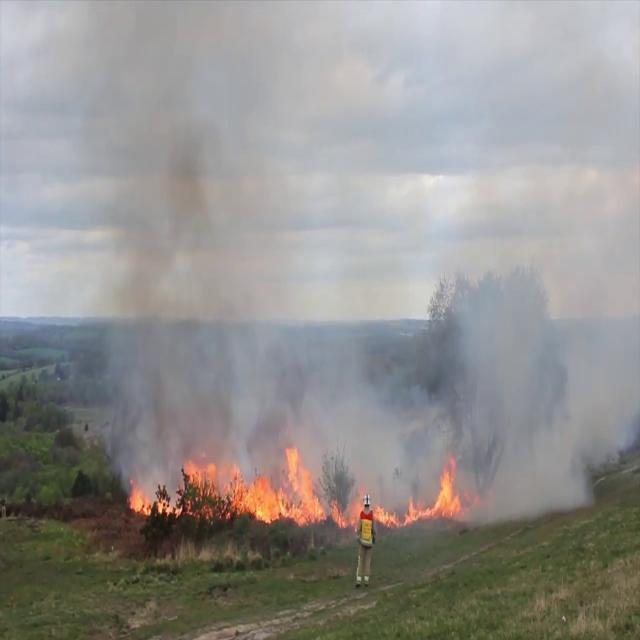Fire: (125, 442, 362, 534), (372, 452, 480, 532)
Smoke: (82, 1, 640, 524)
